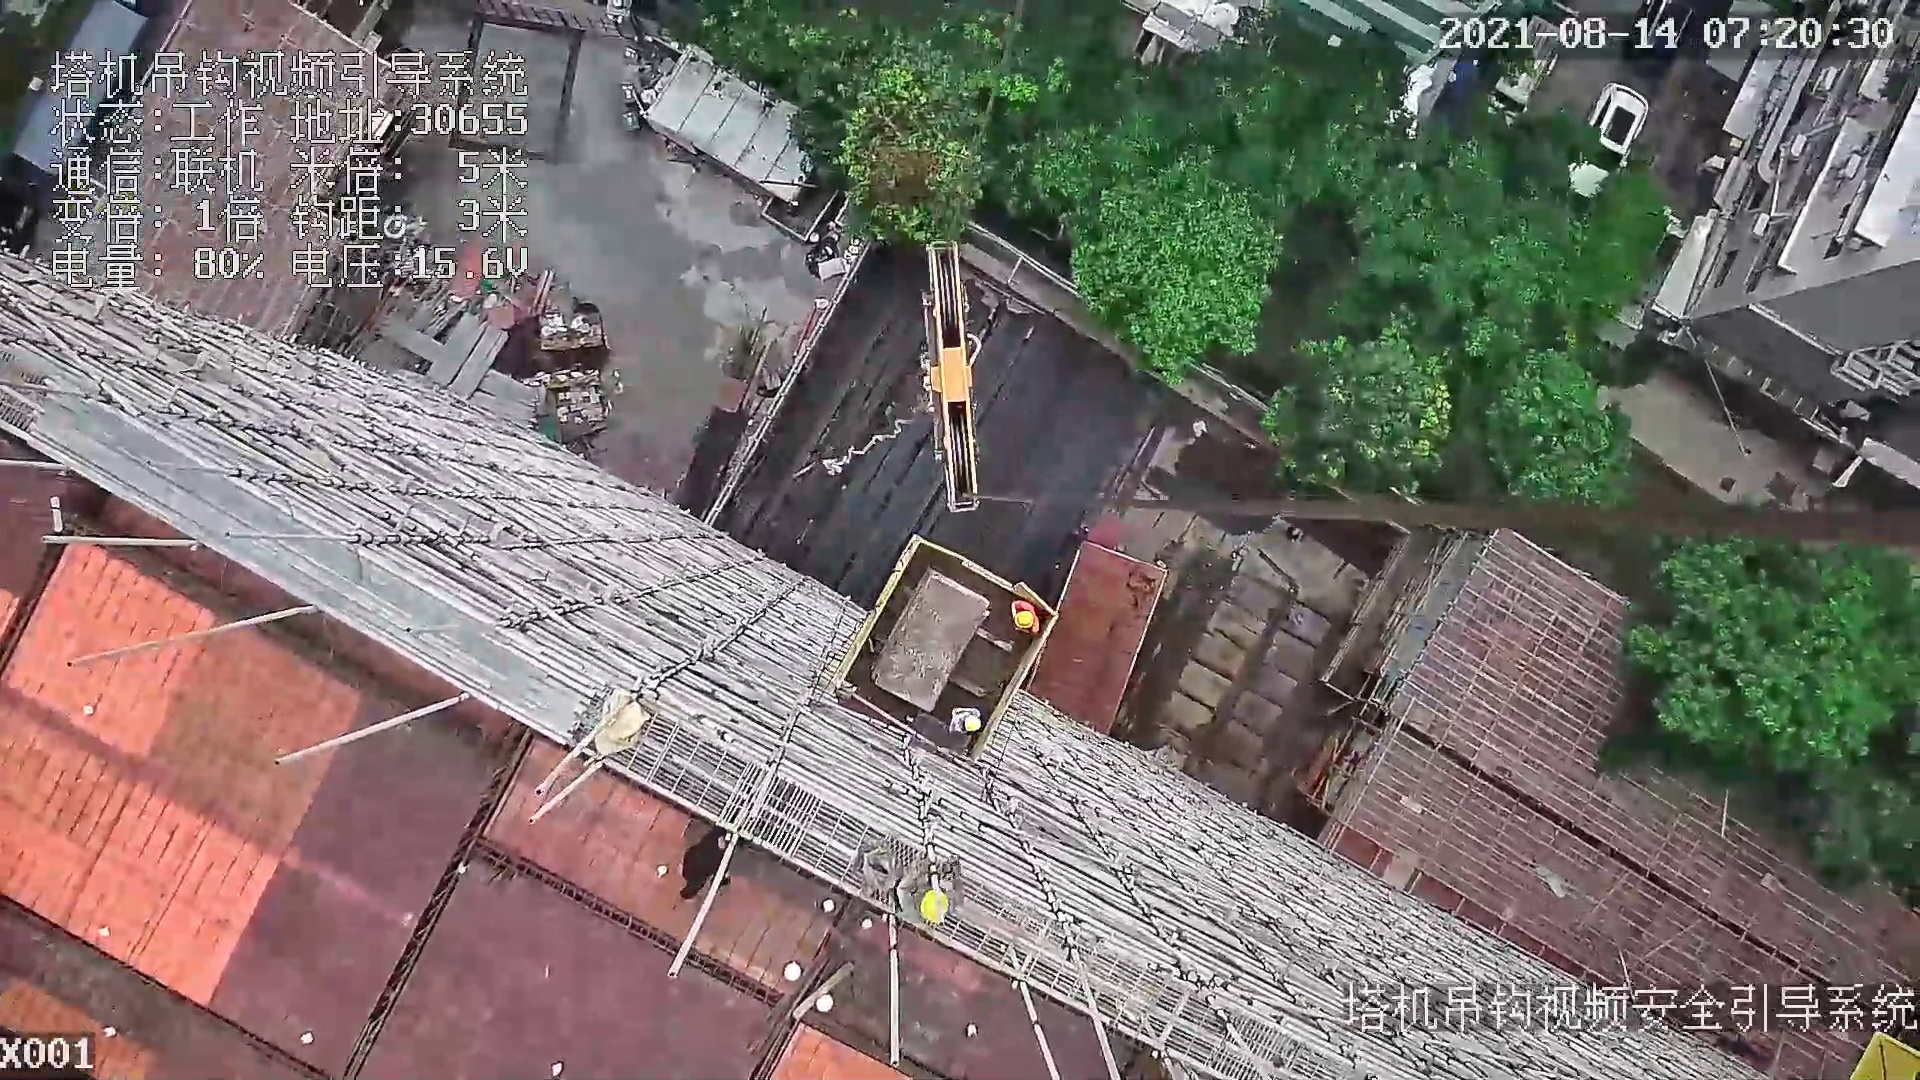helmet: (923, 885, 951, 930), (1015, 611, 1035, 629), (964, 717, 981, 732)
person: (890, 862, 970, 936), (695, 819, 740, 915), (1015, 592, 1044, 637), (955, 712, 977, 732)
